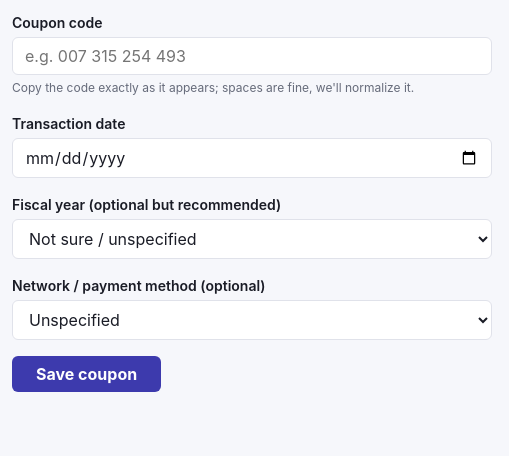
CouponForm › shows validation errors when submitted empty
Click the button "Save coupon".
click(87, 374)  # box [12,356,161,392]
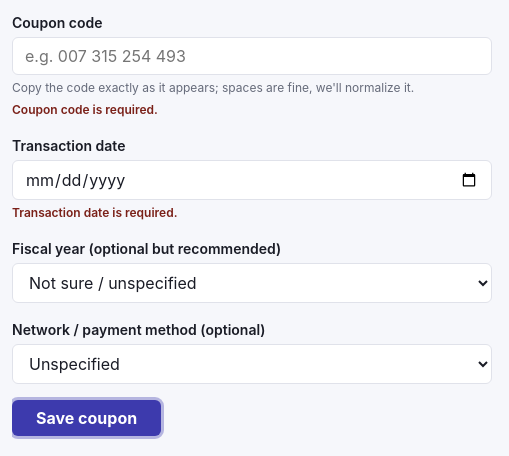
Expected: the text "Coupon code is required." is shown, [12,102,158,117]
Expected: the text "Transaction date is required." is shown, [12,205,178,220]
